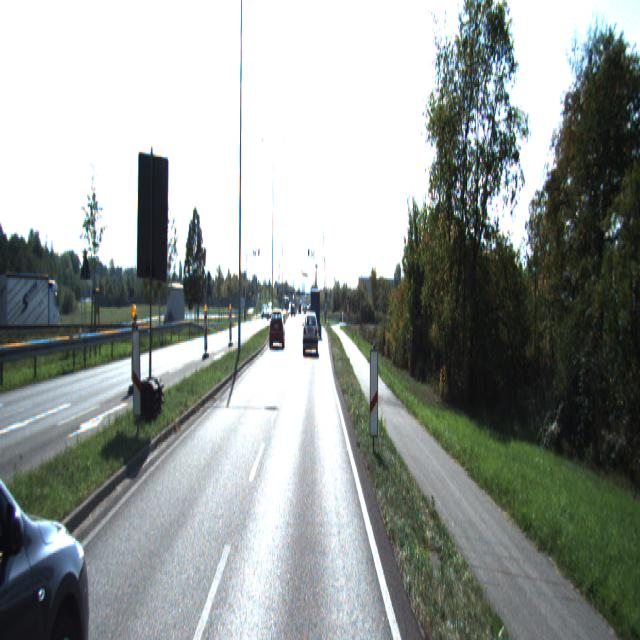Car: (0, 321, 90, 638), (269, 307, 285, 347), (303, 314, 318, 355), (310, 289, 321, 337)
